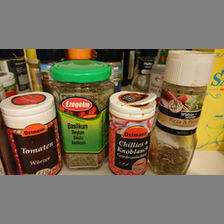spices: (150, 50, 214, 174), (50, 60, 113, 169), (1, 92, 63, 174), (107, 90, 157, 175)
